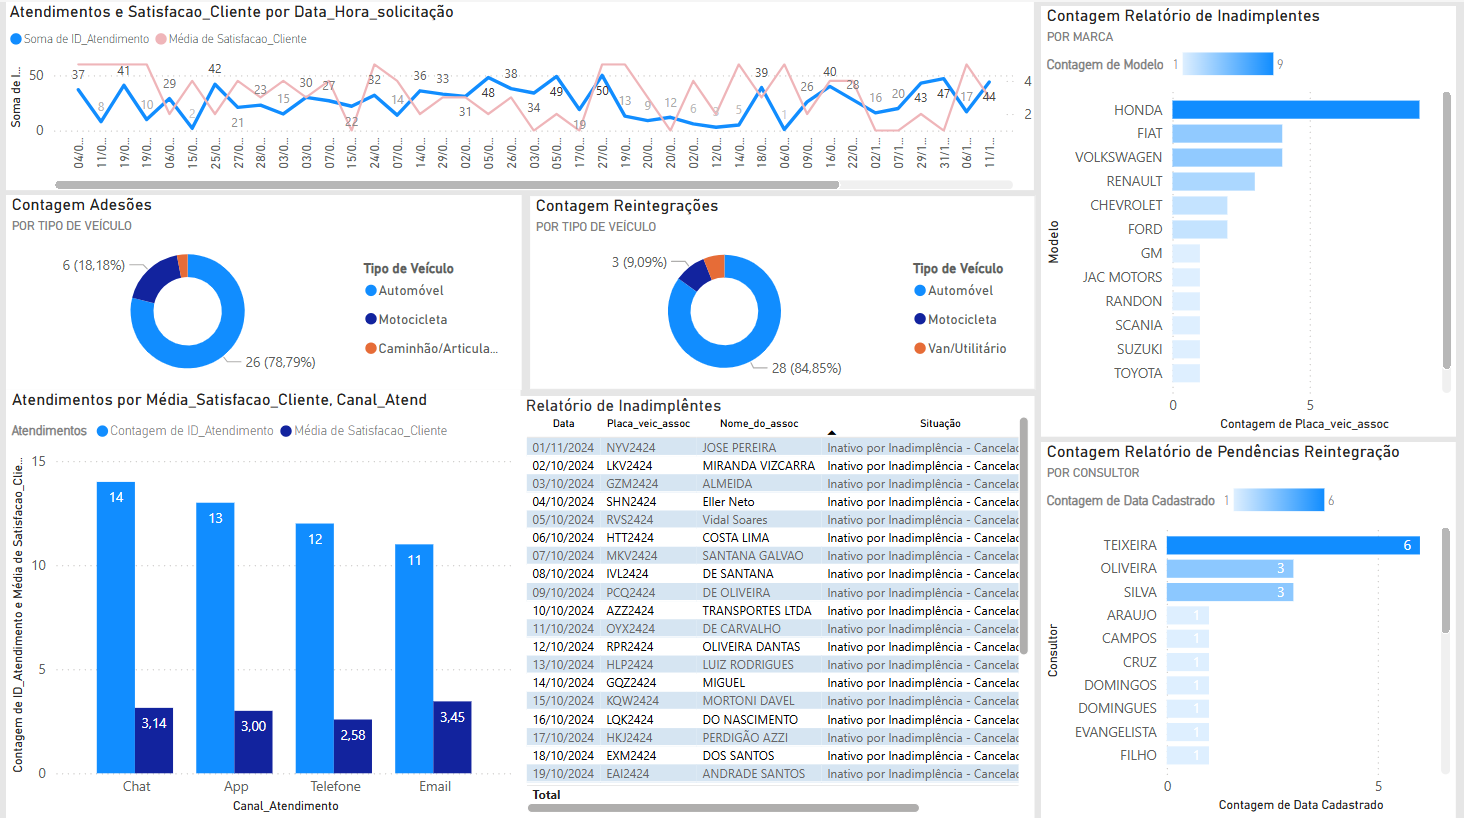

This screenshot's page, from the dashboard's own definition file:
{"tool":"powerbi","page":{"name":"Dashboard 2","canvas":[1280,720],"ordinal":2},"visuals":[{"type":"tableEx","title":"Relatório de Inadimplêntes","fields":{"Values":["relatório_inadimplentes.Data","relatório_inadimplentes.Placa_veic_assoc","relatório_inadimplentes.Nome_do_assoc","relatório_inadimplentes.Situação","Sum(relatório_inadimplentes.Valor)"]},"box":[453.5,347.5,454.4,373],"z":0},{"type":"donutChart","title":"Contagem Reintegrações","fields":{"Y":["CountNonNull(reintegrações.Placa_veic_assoc)"],"Category":["reintegrações.Tipo de Veículo"]},"box":[461.1,170.4,446.9,172.3],"z":1000},{"type":"barChart","title":"Contagem Relatório de Inadimplentes","fields":{"Category":["relatório_inadimplentes.Modelo"],"Y":["CountNonNull(relatório_inadimplentes.Placa_veic_assoc)"]},"box":[913,3.9,367,379.8],"z":2000},{"type":"donutChart","title":"Contagem Adesões","fields":{"Y":["CountNonNull(adesões.Placa_veic_assoc)"],"Category":["adesões.Tipo de Veículo"]},"box":[0,170.2,454.5,172.2],"z":3000},{"type":"barChart","title":"Contagem Relatório de Pendências Reintegração","fields":{"Y":["CountNonNull(relatório_pendencias_reintegração.Data Cadastrado)"],"Category":["relatório_pendencias_reintegração.Consultor"]},"box":[913,388.6,366,331.6],"z":4000},{"type":"clusteredColumnChart","title":"Atendimentos por Média_Satisfacao_Cliente, Canal_Atend","fields":{"Category":["atendimentos_clientes_Universo_AVG.Canal_Atendimento"],"Y":["CountNonNull(atendimentos_clientes_Universo_AVG.ID_Atendimento)","Avg(atendimentos_clientes_Universo_AVG.Satisfacao_Cliente)"]},"box":[0,342.5,453.7,377.5],"z":5000},{"type":"lineChart","title":"Atendimentos e Satisfacao_Cliente por Data_Hora_solicitação","fields":{"Category":["Sheet1.Data_solicitação","atendimentos_clientes_Universo_AVG.Hora_solicitação"],"Y":["Sum(atendimentos_clientes_Universo_AVG.ID_Atendimento)"],"Y2":["Avg(atendimentos_clientes_Universo_AVG.Satisfacao_Cliente)"]},"box":[0,0,907.4,166.4],"z":6000}]}

Visuals, with their boxes in screenshot pixels (x1, y1, x2, y2), scaled from the page's 1280x720 canvas onto the 1464x818 screenshot:
"Relatório de Inadimplêntes" tableEx: region(519, 395, 1038, 817)
"Contagem Reintegrações" donutChart: region(527, 194, 1039, 389)
"Contagem Relatório de Inadimplentes" barChart: region(1044, 4, 1463, 436)
"Contagem Adesões" donutChart: region(0, 193, 520, 389)
"Contagem Relatório de Pendências Reintegração" barChart: region(1044, 441, 1463, 817)
"Atendimentos por Média_Satisfacao_Cliente, Canal_Atend" clusteredColumnChart: region(0, 389, 519, 817)
"Atendimentos e Satisfacao_Cliente por Data_Hora_solicitação" lineChart: region(0, 0, 1038, 189)
